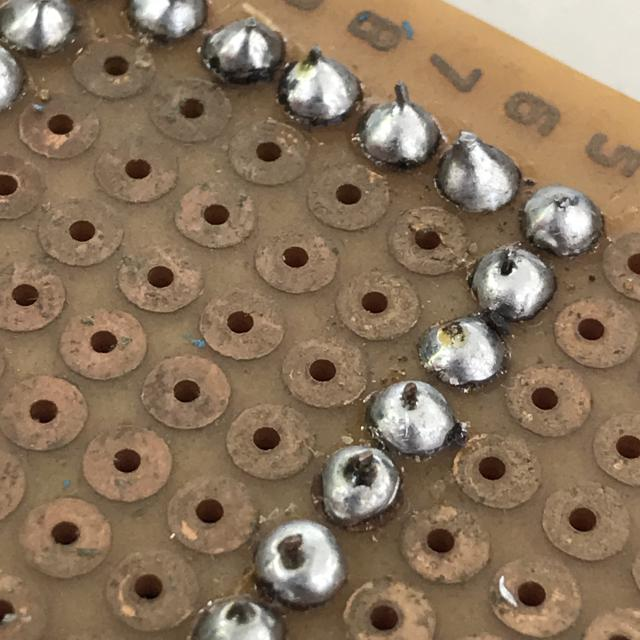good: (517, 171, 612, 268), (429, 129, 528, 222), (348, 86, 447, 175)
hole: (309, 435, 416, 541), (360, 370, 470, 470), (250, 517, 349, 610), (462, 238, 562, 329)
